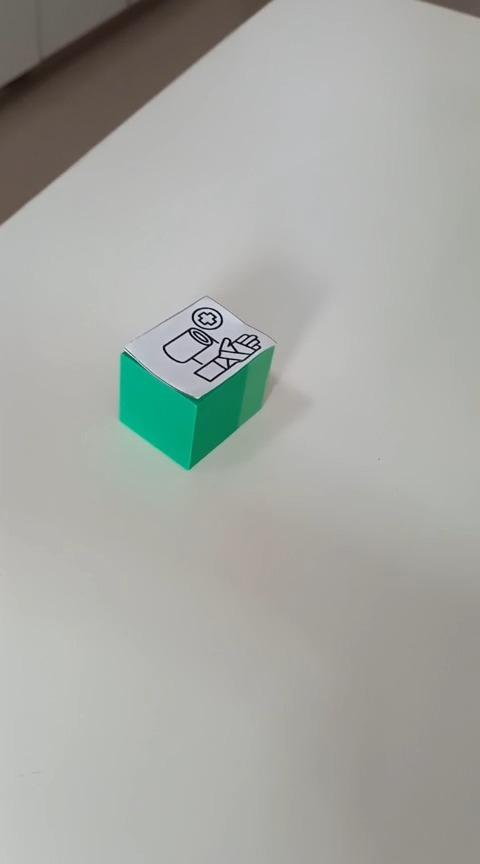Bandages: (117, 294, 276, 470)
